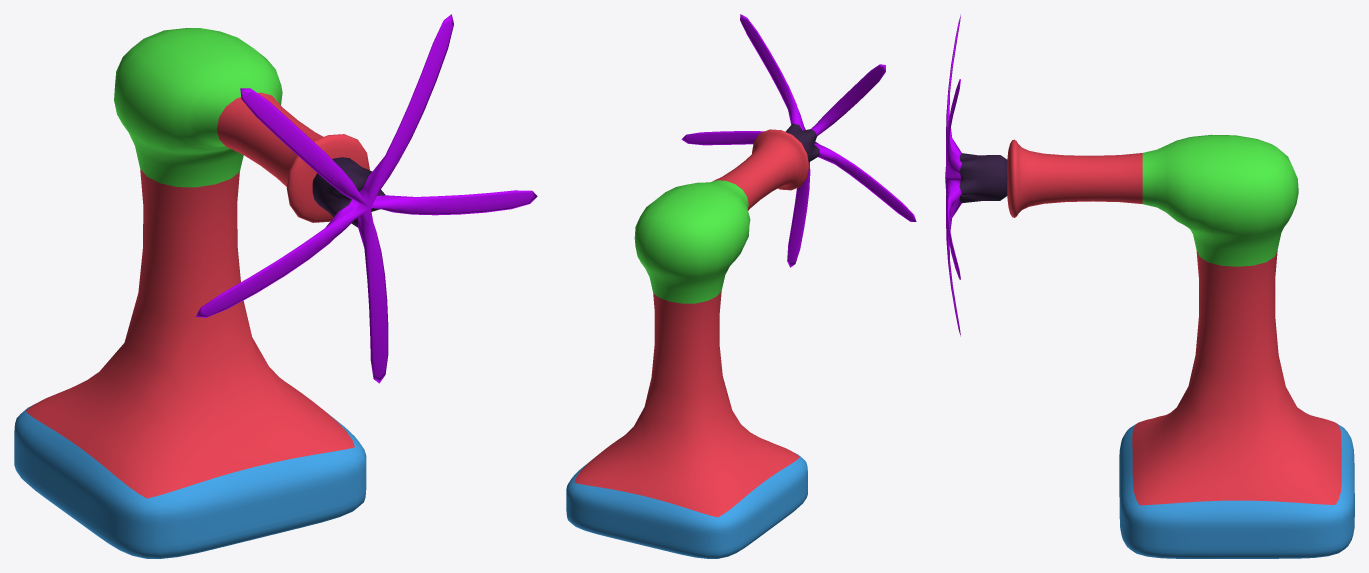
The model's file is FanBase+Blades.fbx.
3 renders of one model, left to right at view 1: azimuth 30°, elevation 25°; view 2: azimuth 150°, elevation 25°; view 3: azimuth 270°, elevation 25°, orthographic. The views are drawn at different scales.
Parts seen in each view (by area): view 1: Base, FanBlades; view 2: Base, FanBlades; view 3: Base, FanBlades.
Part boxes in pixels (box(x1,y1,x2,y2)): Base: box(14, 28, 369, 558); FanBlades: box(195, 14, 537, 383); Base: box(566, 129, 809, 558); FanBlades: box(681, 14, 916, 267); Base: box(1007, 134, 1354, 558); FanBlades: box(945, 14, 1007, 336).
Size of the model in its own units: 274 by 445 by 348.
